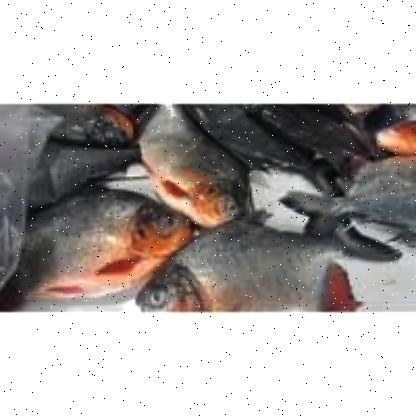ikan-pacu: (133, 222, 347, 310), (10, 191, 180, 297), (139, 104, 251, 216)
